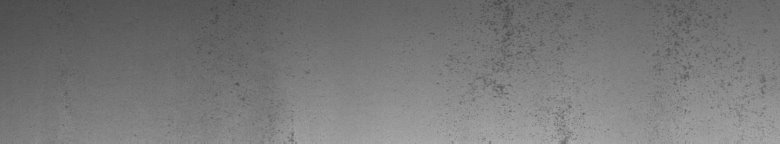ib: (652, 4, 774, 113)
